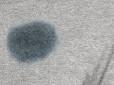gun: (6, 24, 59, 60)
